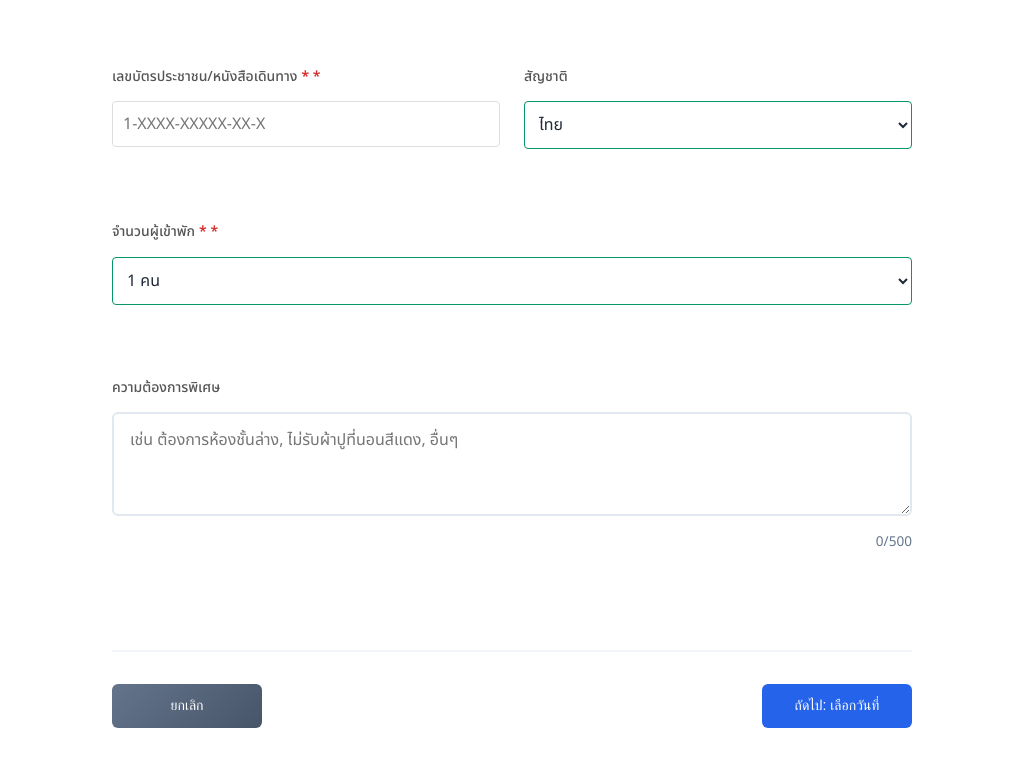
it: GuestForm Component › updates character count for special requests
This screenshot has width=1024, height=768.
(page scrolled)
Type "Test request" into the text box labelled "ความต้องการพิเศษ" at point(512, 464), box 112,412 -> 912,516
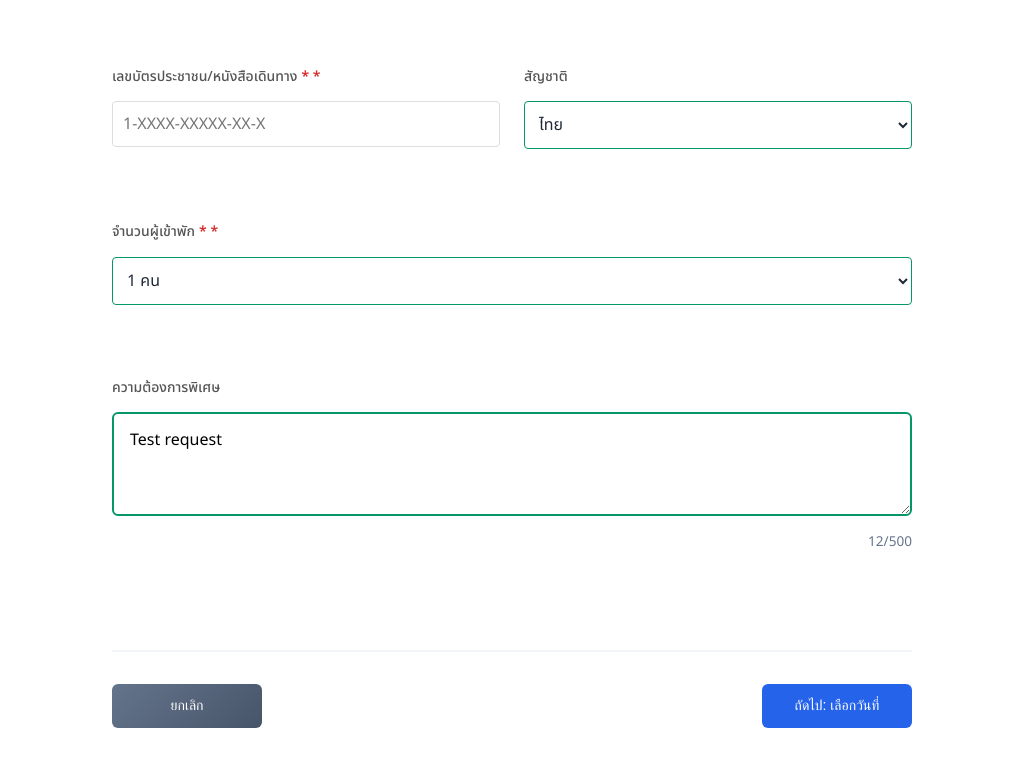
expect the text "12/500" is shown: met, box 868,532 -> 912,552
